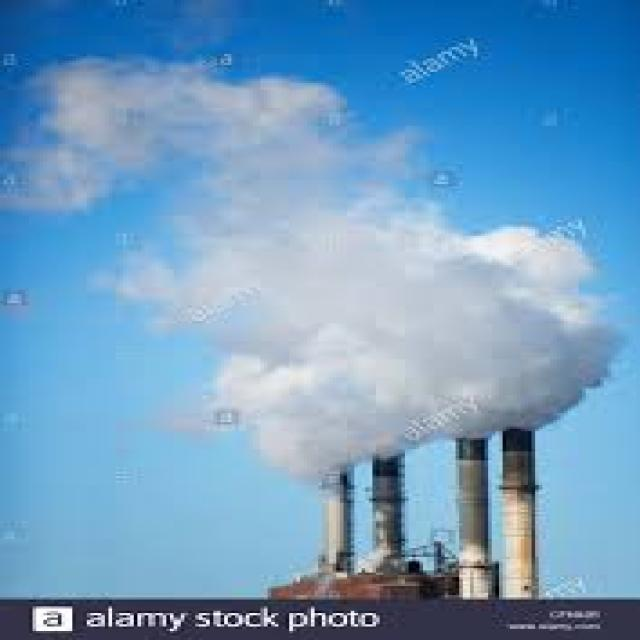smoke: (89, 84, 610, 450)
